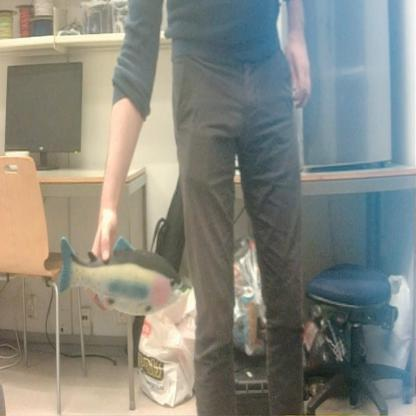rubberfish: (58, 234, 184, 318)
